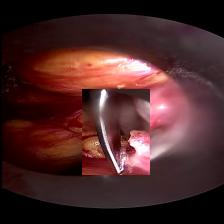Scissors: (80, 89, 148, 175)
